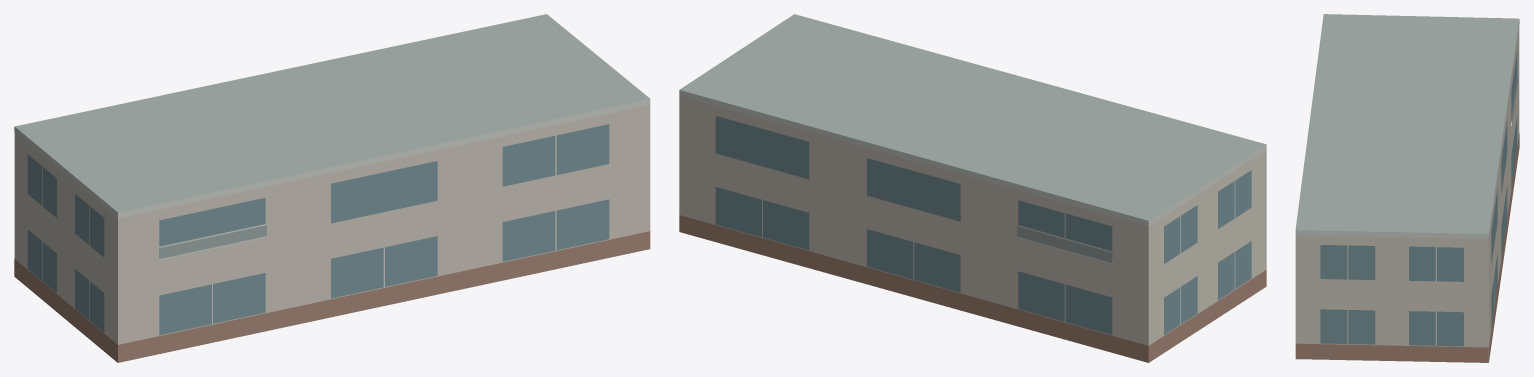
The model's file is survey-upis-32542730.glb.
The picture shows the model from 3 angles, left to right: view 1: azimuth 30°, elevation 25°; view 2: azimuth 150°, elevation 25°; view 3: azimuth 270°, elevation 25°; orthographic projection. The views are drawn at different scales.
Parts seen in each view (by area): view 1: survey-upis-32542730.tmp; view 2: survey-upis-32542730.tmp; view 3: survey-upis-32542730.tmp.
Boxes of the visible parts, <box> form: survey-upis-32542730.tmp: <box>14,14,650,362</box>; survey-upis-32542730.tmp: <box>679,14,1266,362</box>; survey-upis-32542730.tmp: <box>1295,14,1519,362</box>.
Bounding box in the file's own units: 22.31 × 6.1 × 9.61.
